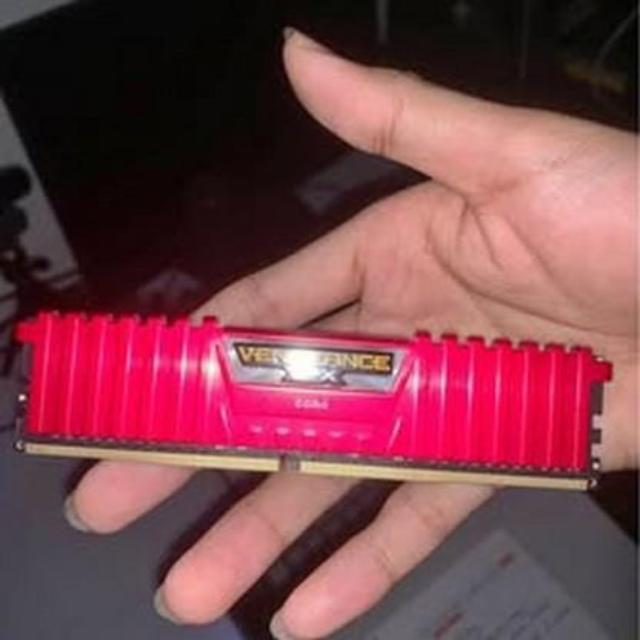RAM: (17, 306, 612, 500)
